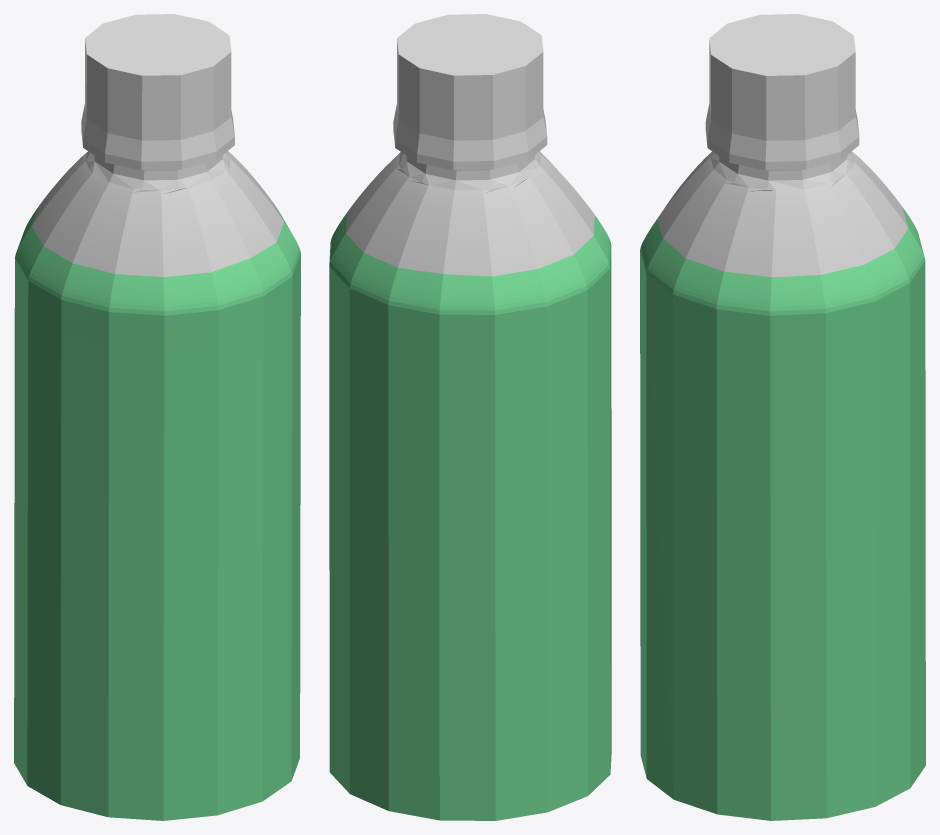
The model's file is greentea_bottle.dae.
3 views of the same model, side by side, from view 1: azimuth 30°, elevation 25°; view 2: azimuth 150°, elevation 25°; view 3: azimuth 270°, elevation 25° (orthographic).
Visible parts, largest first — view 1: Petbottle; view 2: Petbottle; view 3: Petbottle.
Boxes of the visible parts, x1,y1,x2,y2 form: Petbottle: (14,14,300,820); Petbottle: (329,14,611,820); Petbottle: (640,14,925,820).
Bounding box in the file's own units: 0.0599 × 0.0599 × 0.1656.
